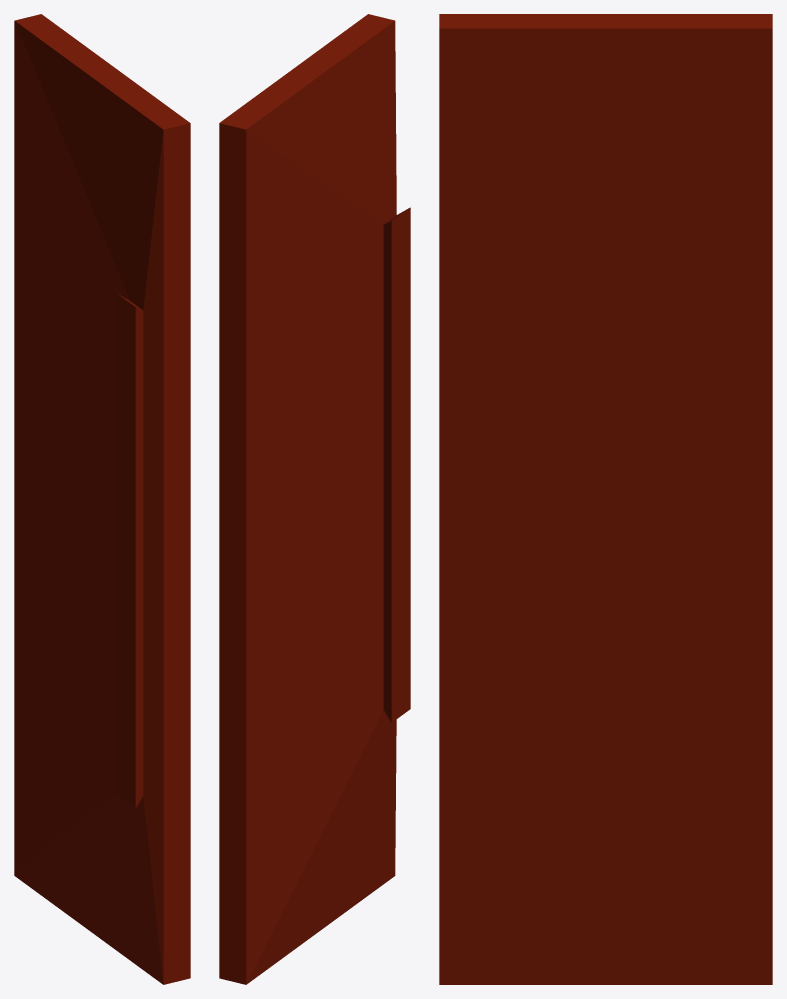
File: m_ClosetDoorLeft.FBX
3 views of the same model, side by side, from view 1: azimuth 30°, elevation 25°; view 2: azimuth 150°, elevation 25°; view 3: azimuth 270°, elevation 25° (orthographic). The views are drawn at different scales.
Parts seen in each view (by area): view 1: ClosetDooLeft; view 2: ClosetDooLeft; view 3: ClosetDooLeft.
Part boxes in pixels (x1,y1,x2,y2): ClosetDooLeft: (14, 14, 190, 984); ClosetDooLeft: (219, 14, 410, 984); ClosetDooLeft: (439, 14, 772, 984).
Size of the model in its own units: 5.14 by 27.22 by 86.18.
